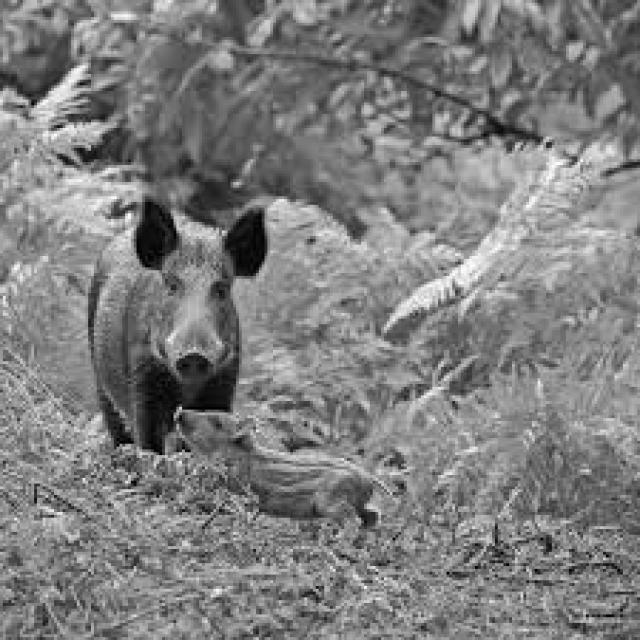boar: (88, 199, 270, 452), (176, 410, 378, 529)
